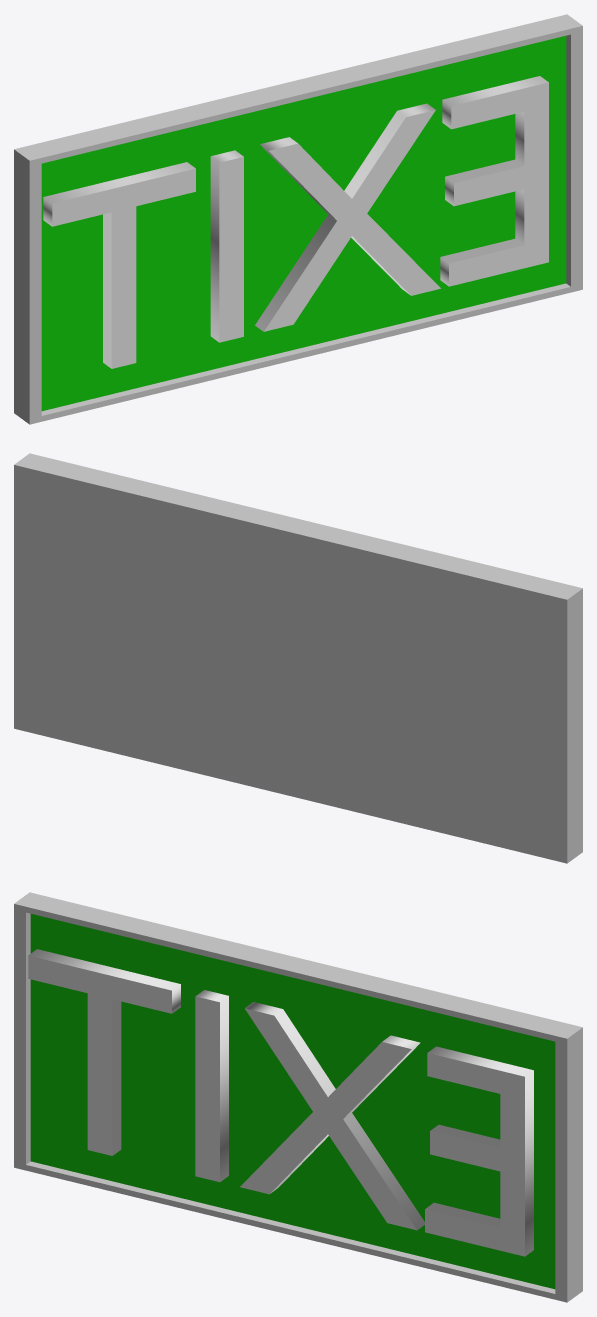
File: ExitSign.fbx
3 views of the same model, one above another, from view 1: azimuth 30°, elevation 25°; view 2: azimuth 150°, elevation 25°; view 3: azimuth 330°, elevation 25° (orthographic).
Parts seen in each view (by area): view 1: Cube; view 2: Cube; view 3: Cube.
Boxes of the visible parts, bbox=[...] form: Cube: bbox=[14, 14, 582, 424]; Cube: bbox=[14, 453, 582, 863]; Cube: bbox=[14, 892, 582, 1302].
Bounding box in the file's own units: 4.39 × 2 × 0.2731.
